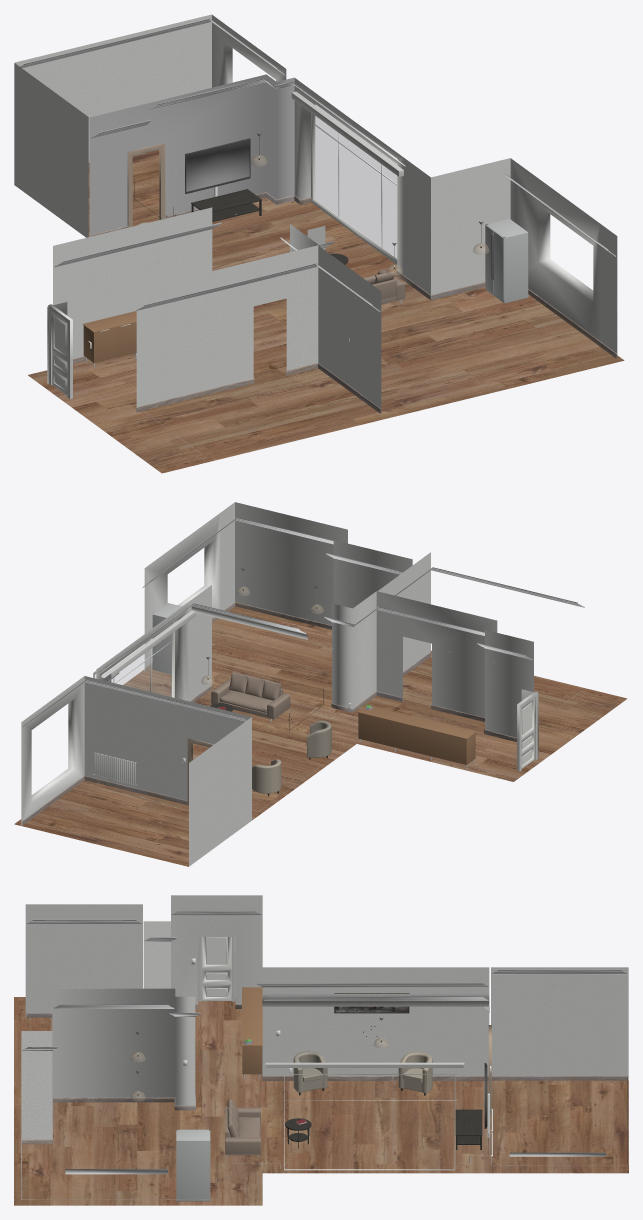
Rendered from living_room_1k.glb.
3 renders of one model, top to bottom at view 1: azimuth 30°, elevation 25°; view 2: azimuth 150°, elevation 25°; view 3: azimuth 270°, elevation 25°, orthographic. The views are drawn at different scales.
Parts seen in each view (by area): view 1: i13 On My Own Environment; view 2: i13 On My Own Environment; view 3: i13 On My Own Environment.
Boxes of the visible parts, bbox=[...] form: i13 On My Own Environment: bbox=[14, 14, 624, 473]; i13 On My Own Environment: bbox=[14, 502, 627, 866]; i13 On My Own Environment: bbox=[14, 895, 628, 1205].
Size of the model in its own units: 13.31 by 3.31 by 16.22.
Materials: 115 (55 with a texture image).
